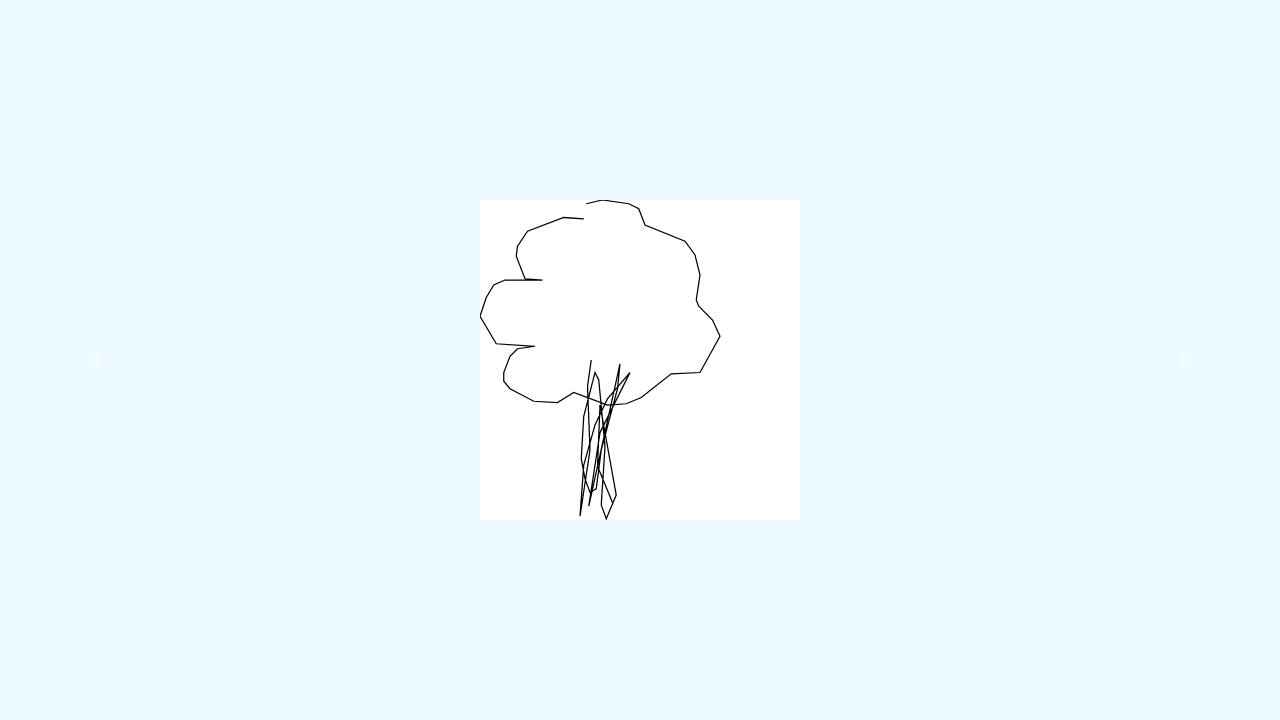tree: (472, 192, 727, 529)
